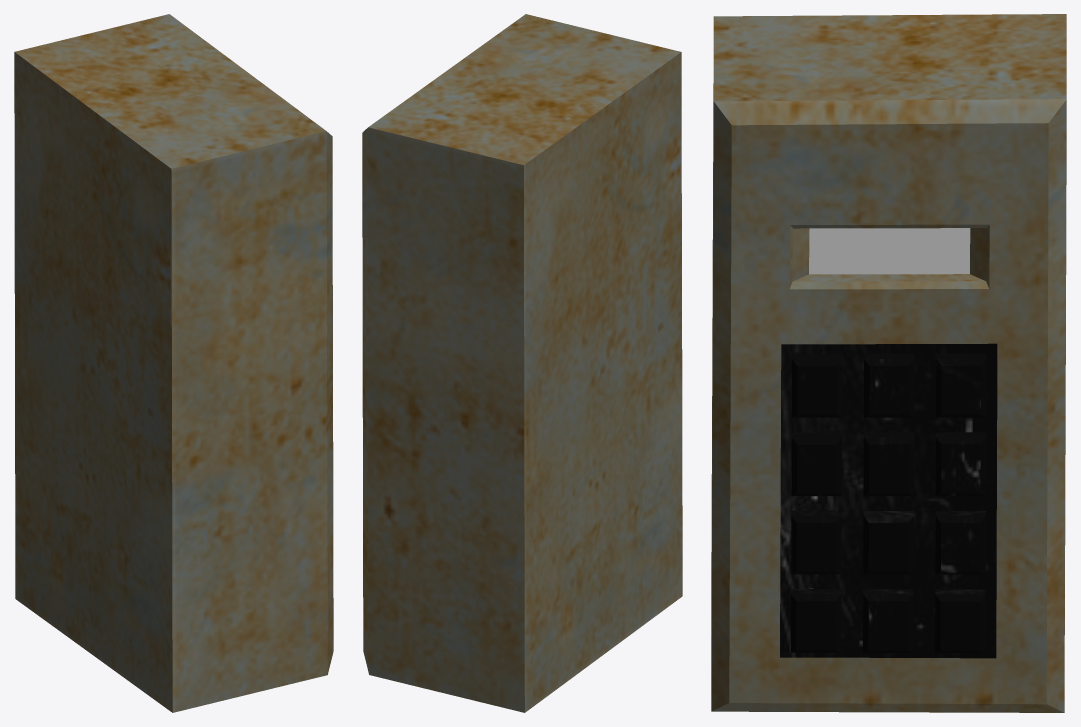
File: OldKeypad.fbx
3 views of the same model, side by side, from view 1: azimuth 30°, elevation 25°; view 2: azimuth 150°, elevation 25°; view 3: azimuth 270°, elevation 25° (orthographic). The views are drawn at different scales.
Visible parts, largest first — view 1: Old_Keypad; view 2: Old_Keypad; view 3: Old_Keypad.
Boxes of the visible parts, bbox=[...] form: Old_Keypad: bbox=[14, 14, 333, 712]; Old_Keypad: bbox=[362, 14, 682, 712]; Old_Keypad: bbox=[711, 14, 1066, 712].
Size of the model in its own units: 65.1 by 187 by 98.04.
